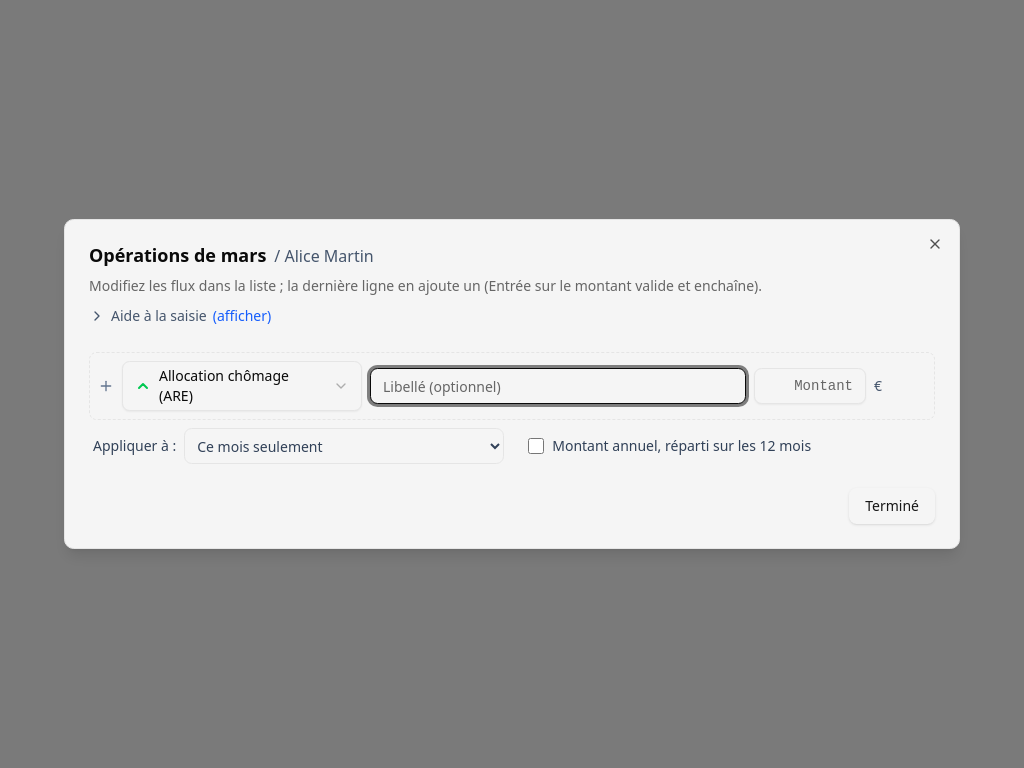
Test case: MonthlyFlowsModal : montant annuel › n'est pas proposée pour un salaire, qui se saisit par mois
This screenshot has width=1024, height=768.
Expected: the checkbox labelled "Montant annuel, réparti sur les 12 mois" is shown, [528, 438, 544, 454]
What coordinates should you click on to do the following:
click the dropdown named "Type de flux"
I would click on:
 (242, 386)
Its box is [122, 361, 362, 411].
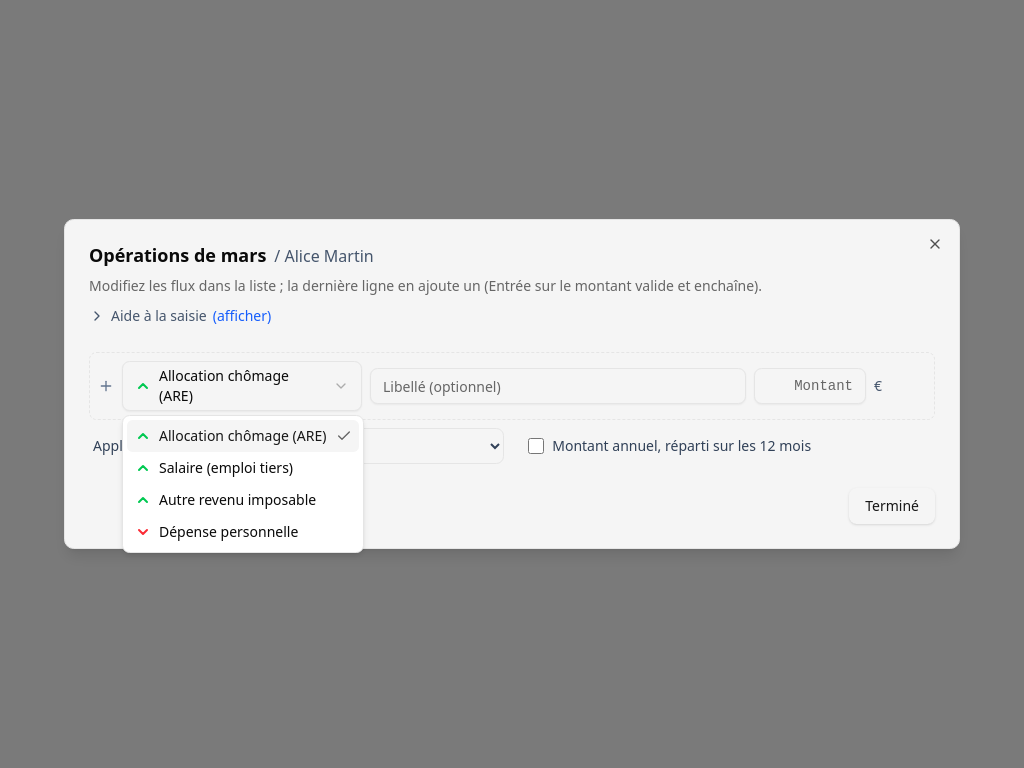
What coordinates should you click on to do the following:
click the option "Salaire (emploi tiers)"
I would click on:
 (214, 468)
Its box is [135, 458, 293, 477].
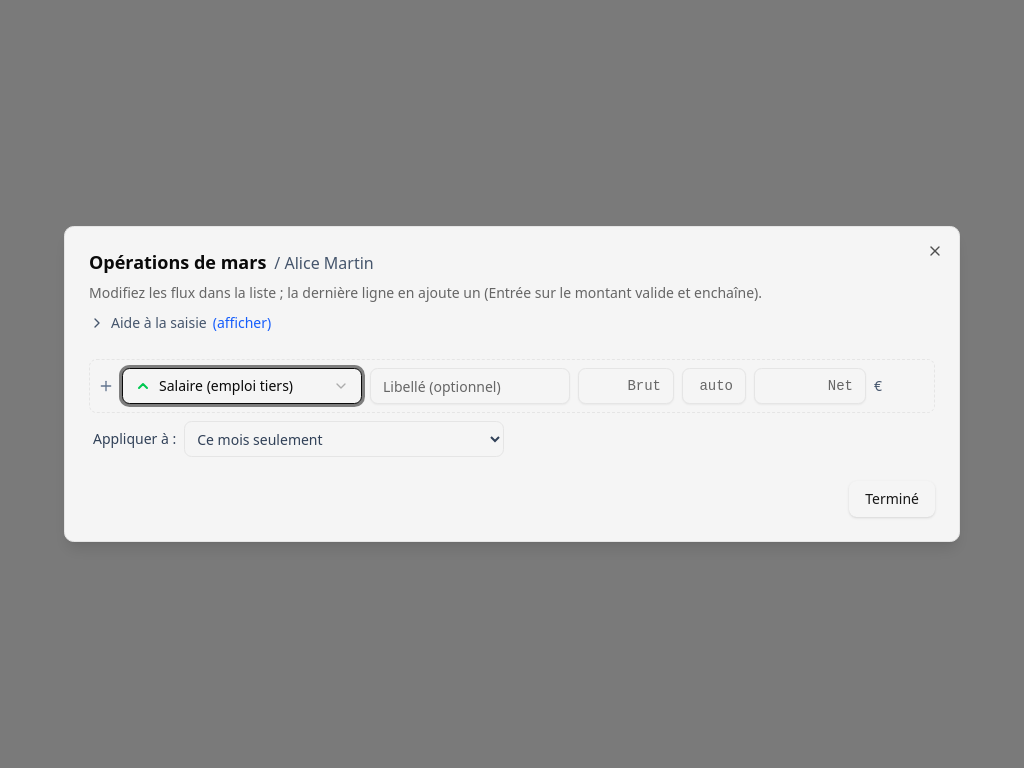
Expected: the text "Montant annuel, réparti sur les 12 mois" is gone
